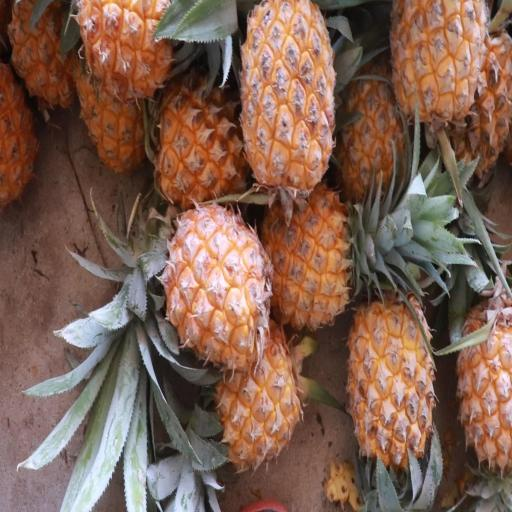Pineapple - v8 v1: (160, 199, 274, 377), (346, 270, 439, 480), (236, 0, 336, 194), (208, 304, 306, 476), (255, 174, 356, 338), (152, 66, 246, 215), (390, 2, 489, 136), (448, 273, 512, 473)
